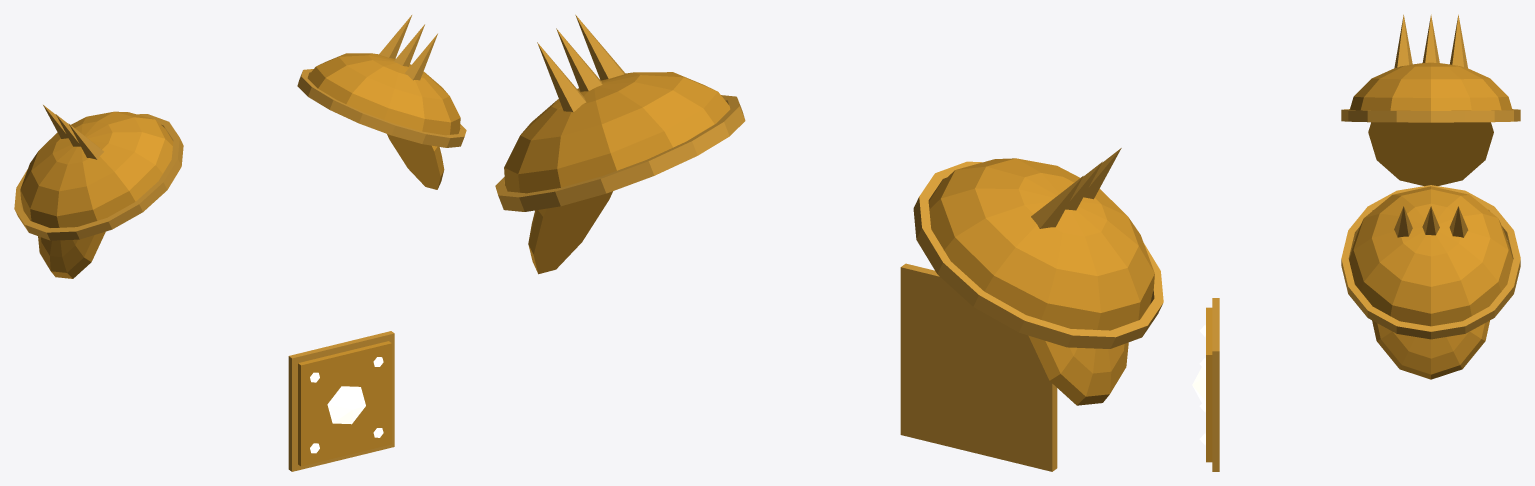
The model's file is armor_lord_chest_legendary_orc.glb.
3 renders of one model, left to right at view 1: azimuth 30°, elevation 25°; view 2: azimuth 150°, elevation 25°; view 3: azimuth 270°, elevation 25°, orthographic. The views are drawn at different scales.
Parts seen in each view (by area): view 1: armor_lord_chest_legendary_orc__clavicle_r, armor_lord_chest_legendary_orc__clavicle_l, armor_lord_chest_legendary_orc__spine_03; view 2: armor_lord_chest_legendary_orc__clavicle_r, armor_lord_chest_legendary_orc__clavicle_l, armor_lord_chest_legendary_orc__spine_03; view 3: armor_lord_chest_legendary_orc__clavicle_l, armor_lord_chest_legendary_orc__clavicle_r, armor_lord_chest_legendary_orc__spine_03.
Boxes of the visible parts, bbox=[...] form: armor_lord_chest_legendary_orc__clavicle_r: bbox=[14, 105, 183, 278]; armor_lord_chest_legendary_orc__clavicle_l: bbox=[297, 15, 466, 189]; armor_lord_chest_legendary_orc__spine_03: bbox=[288, 331, 394, 471]; armor_lord_chest_legendary_orc__clavicle_r: bbox=[913, 148, 1163, 405]; armor_lord_chest_legendary_orc__clavicle_l: bbox=[495, 14, 745, 274]; armor_lord_chest_legendary_orc__spine_03: bbox=[900, 263, 1057, 471]; armor_lord_chest_legendary_orc__clavicle_l: bbox=[1341, 185, 1520, 379]; armor_lord_chest_legendary_orc__clavicle_r: bbox=[1341, 14, 1520, 185]; armor_lord_chest_legendary_orc__spine_03: bbox=[1192, 298, 1219, 471].
Bounding box in the file's own units: 73.09 × 51.15 × 45.42.
